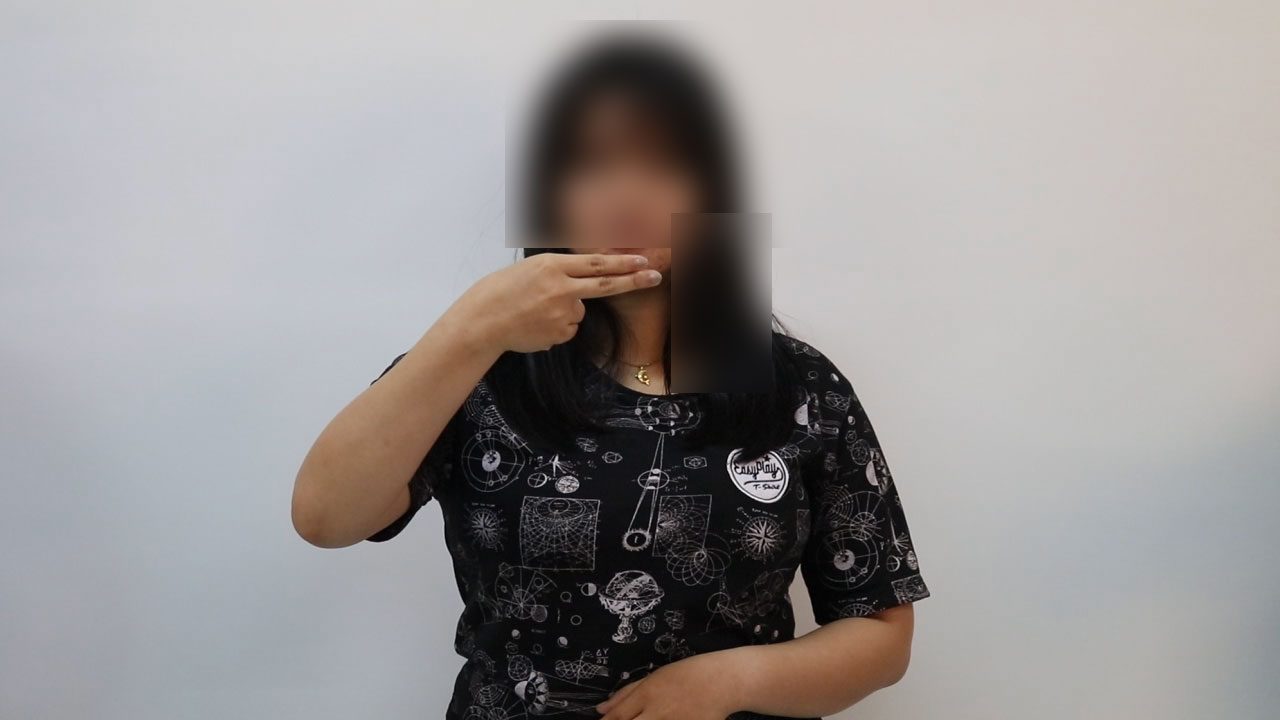hor: (459, 242, 671, 360)
